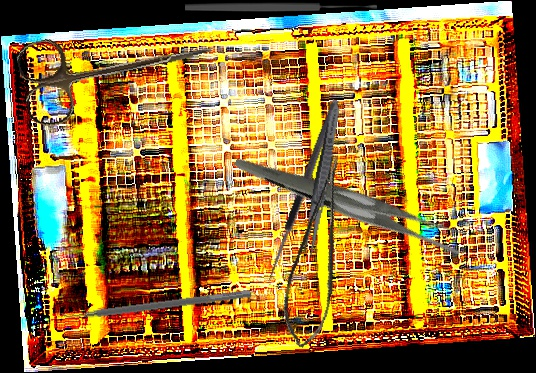Dressing Forceps: (233, 94, 472, 308), (300, 102, 344, 260)
Hook Surgical: (263, 98, 349, 289)
Iris Scissors: (13, 3, 221, 131)
Micro Scissor: (268, 151, 375, 355)
Spatula Surgical: (56, 280, 252, 325)
Surgical Spoon: (185, 2, 377, 13)
